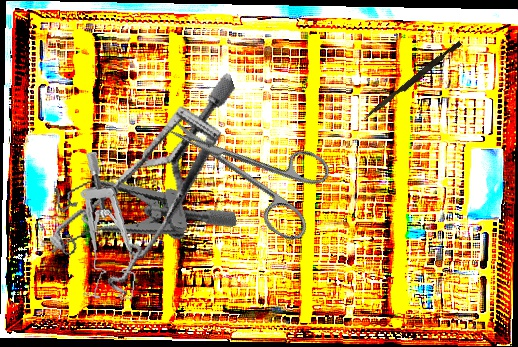Iris Scissors: (149, 84, 342, 246)
Pusher: (362, 38, 463, 124)
Speculum: (16, 70, 288, 313), (37, 147, 238, 271), (69, 151, 149, 303)
